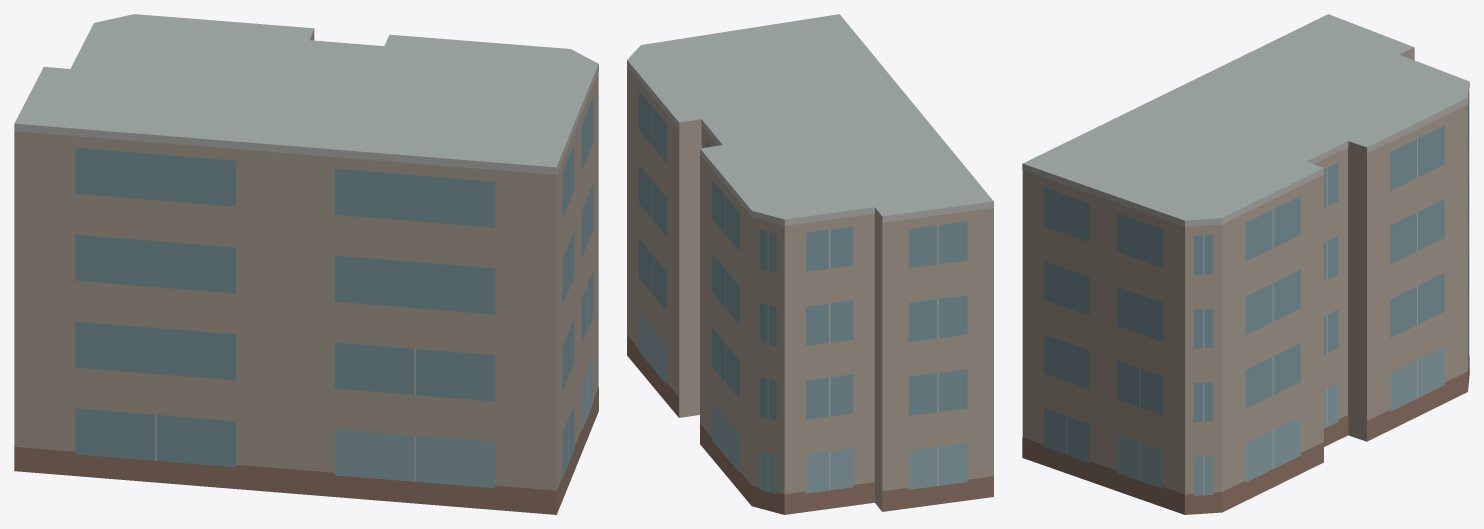
File: survey-upis-32680491.glb
3 views of the same model, side by side, from view 1: azimuth 30°, elevation 25°; view 2: azimuth 150°, elevation 25°; view 3: azimuth 270°, elevation 25° (orthographic). The views are drawn at different scales.
Parts seen in each view (by area): view 1: survey-upis-32680491.tmp; view 2: survey-upis-32680491.tmp; view 3: survey-upis-32680491.tmp.
Boxes of the visible parts, bbox=[...] form: survey-upis-32680491.tmp: bbox=[14, 14, 598, 514]; survey-upis-32680491.tmp: bbox=[627, 14, 993, 514]; survey-upis-32680491.tmp: bbox=[1022, 14, 1469, 514].
Size of the model in its own units: 16.87 by 11.2 by 15.42.
